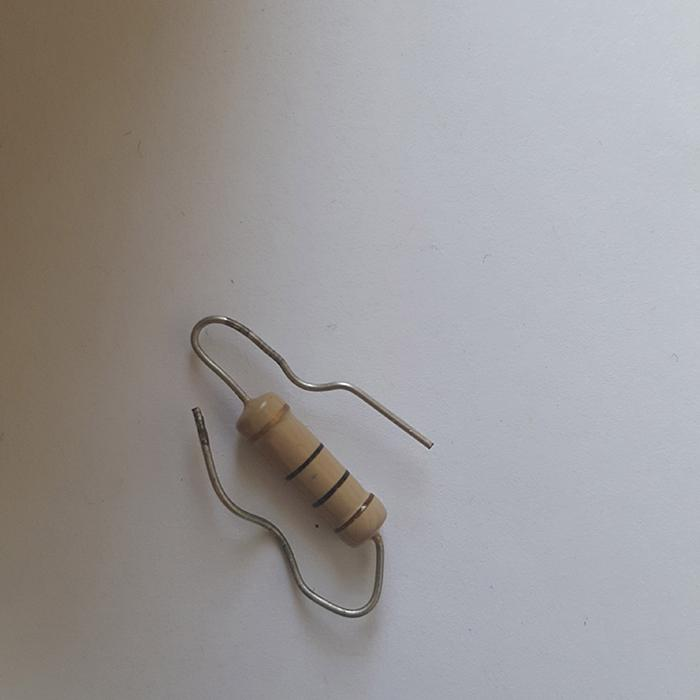resistor: (234, 390, 386, 545)
